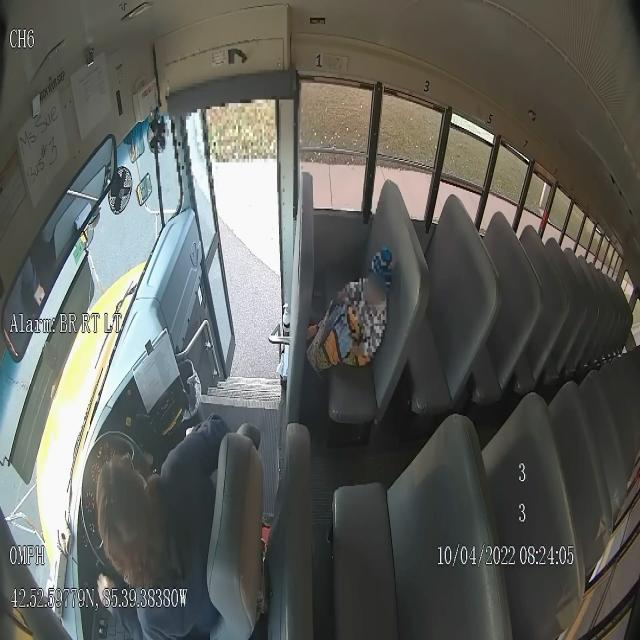bus-door: (185, 111, 235, 376)
